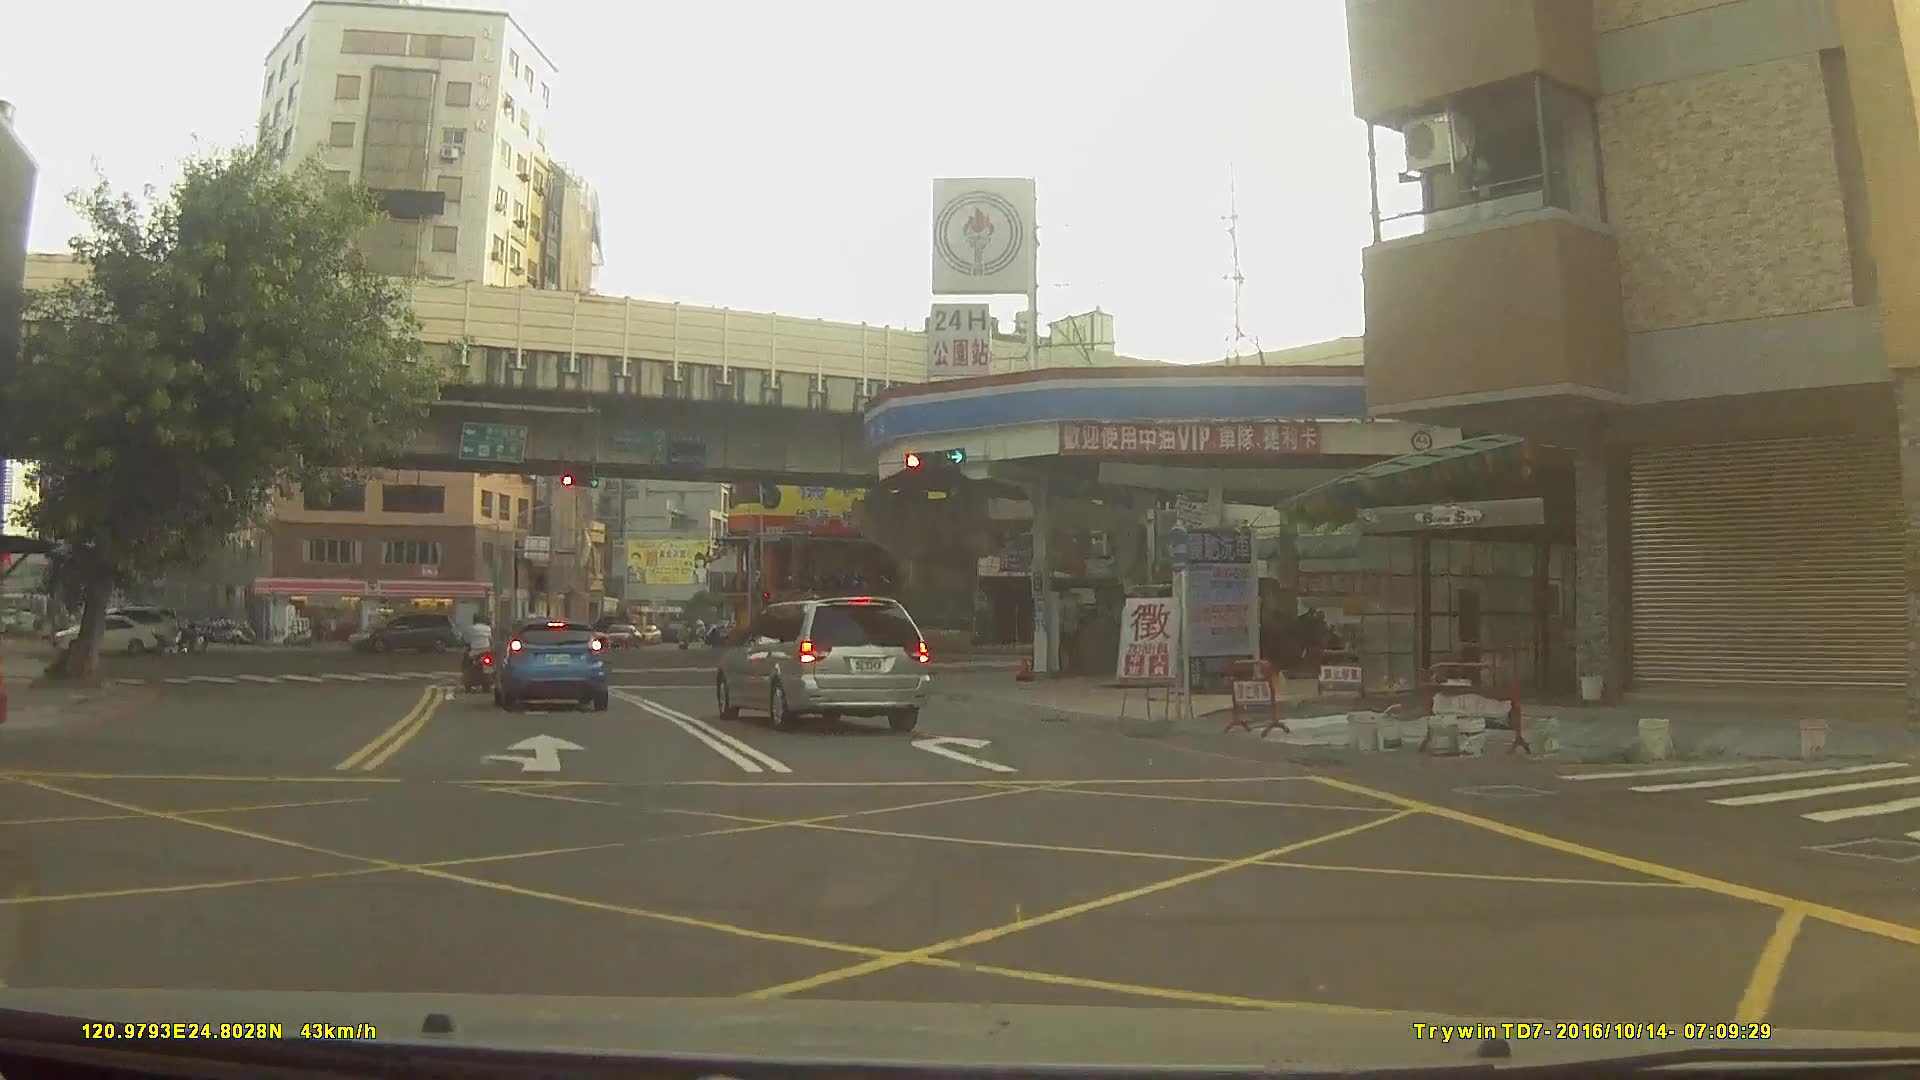rider: (460, 614, 499, 693), (172, 619, 200, 650)
vehicle: (715, 591, 930, 733), (494, 614, 610, 712), (51, 613, 157, 658), (347, 610, 456, 653), (528, 604, 608, 644)
